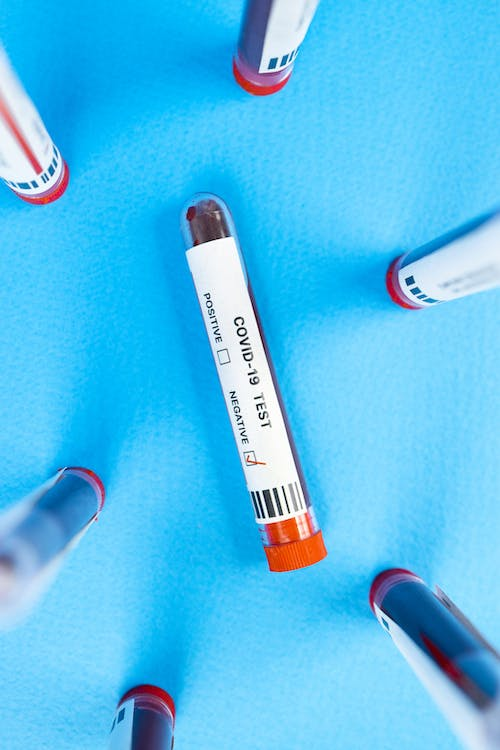blood: (178, 189, 313, 510), (389, 582, 500, 750), (10, 463, 107, 562), (403, 204, 500, 267), (229, 0, 274, 69), (126, 703, 177, 750)
